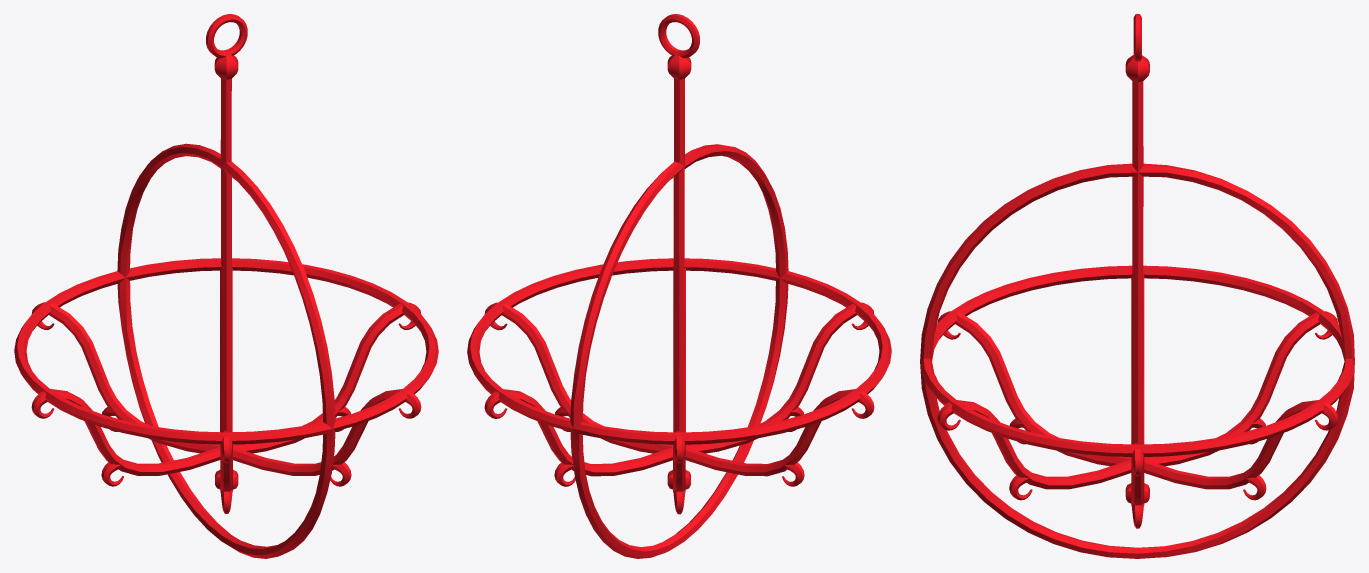
File: dfk_chandelier_base.fbx
3 views of the same model, side by side, from view 1: azimuth 30°, elevation 25°; view 2: azimuth 150°, elevation 25°; view 3: azimuth 270°, elevation 25° (orthographic). The views are drawn at different scales.
Parts seen in each view (by area): view 1: Chandelier; view 2: Chandelier; view 3: Chandelier.
Part boxes in pixels (box(x1,y1,x2,y2)): Chandelier: box(14, 14, 438, 558); Chandelier: box(467, 14, 891, 558); Chandelier: box(920, 14, 1354, 558).
Size of what is drawn, in the model's own units: 1.37 by 1.78 by 1.3.
